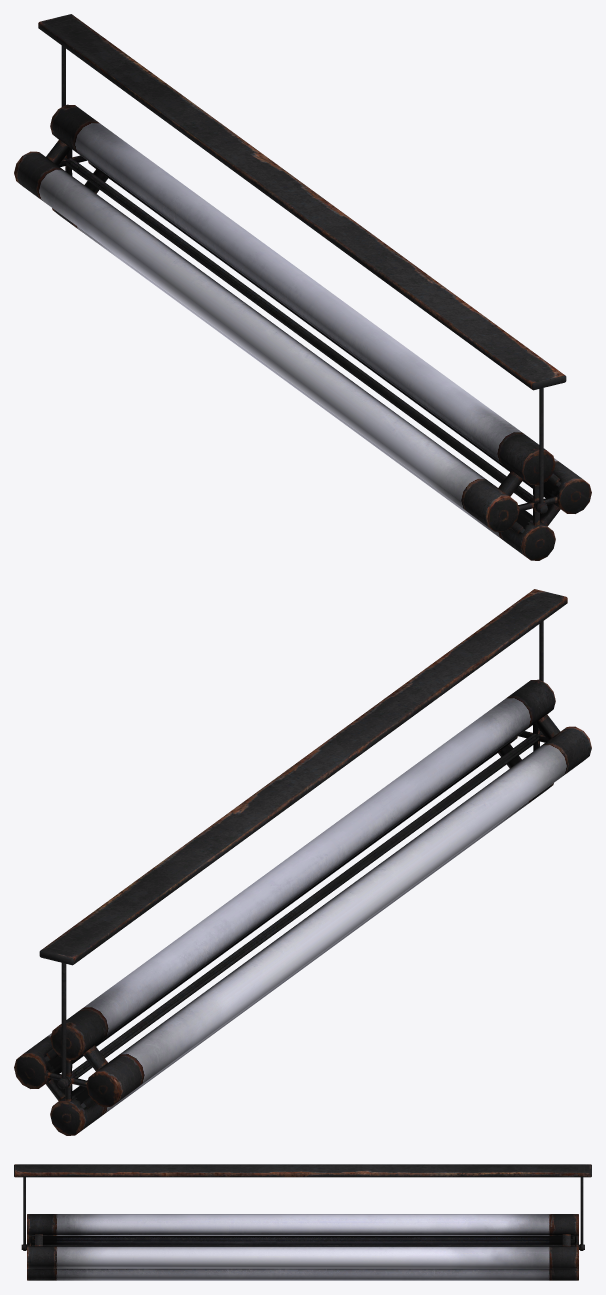
Rendered from lamp_ceiling_bare.DAE.
The picture shows the model from 3 angles, top to bottom: view 1: azimuth 30°, elevation 25°; view 2: azimuth 150°, elevation 25°; view 3: azimuth 270°, elevation 25°; orthographic projection. The views are drawn at different scales.
Visible parts, largest first — view 1: Line006; view 2: Line006; view 3: Line006.
Boxes of the visible parts, box(x1,y1,x2,y2) form: Line006: box(14, 14, 591, 560); Line006: box(14, 589, 591, 1135); Line006: box(14, 1164, 591, 1280).
Size of the model in its own units: 0.154 by 1.25 by 0.2641.
